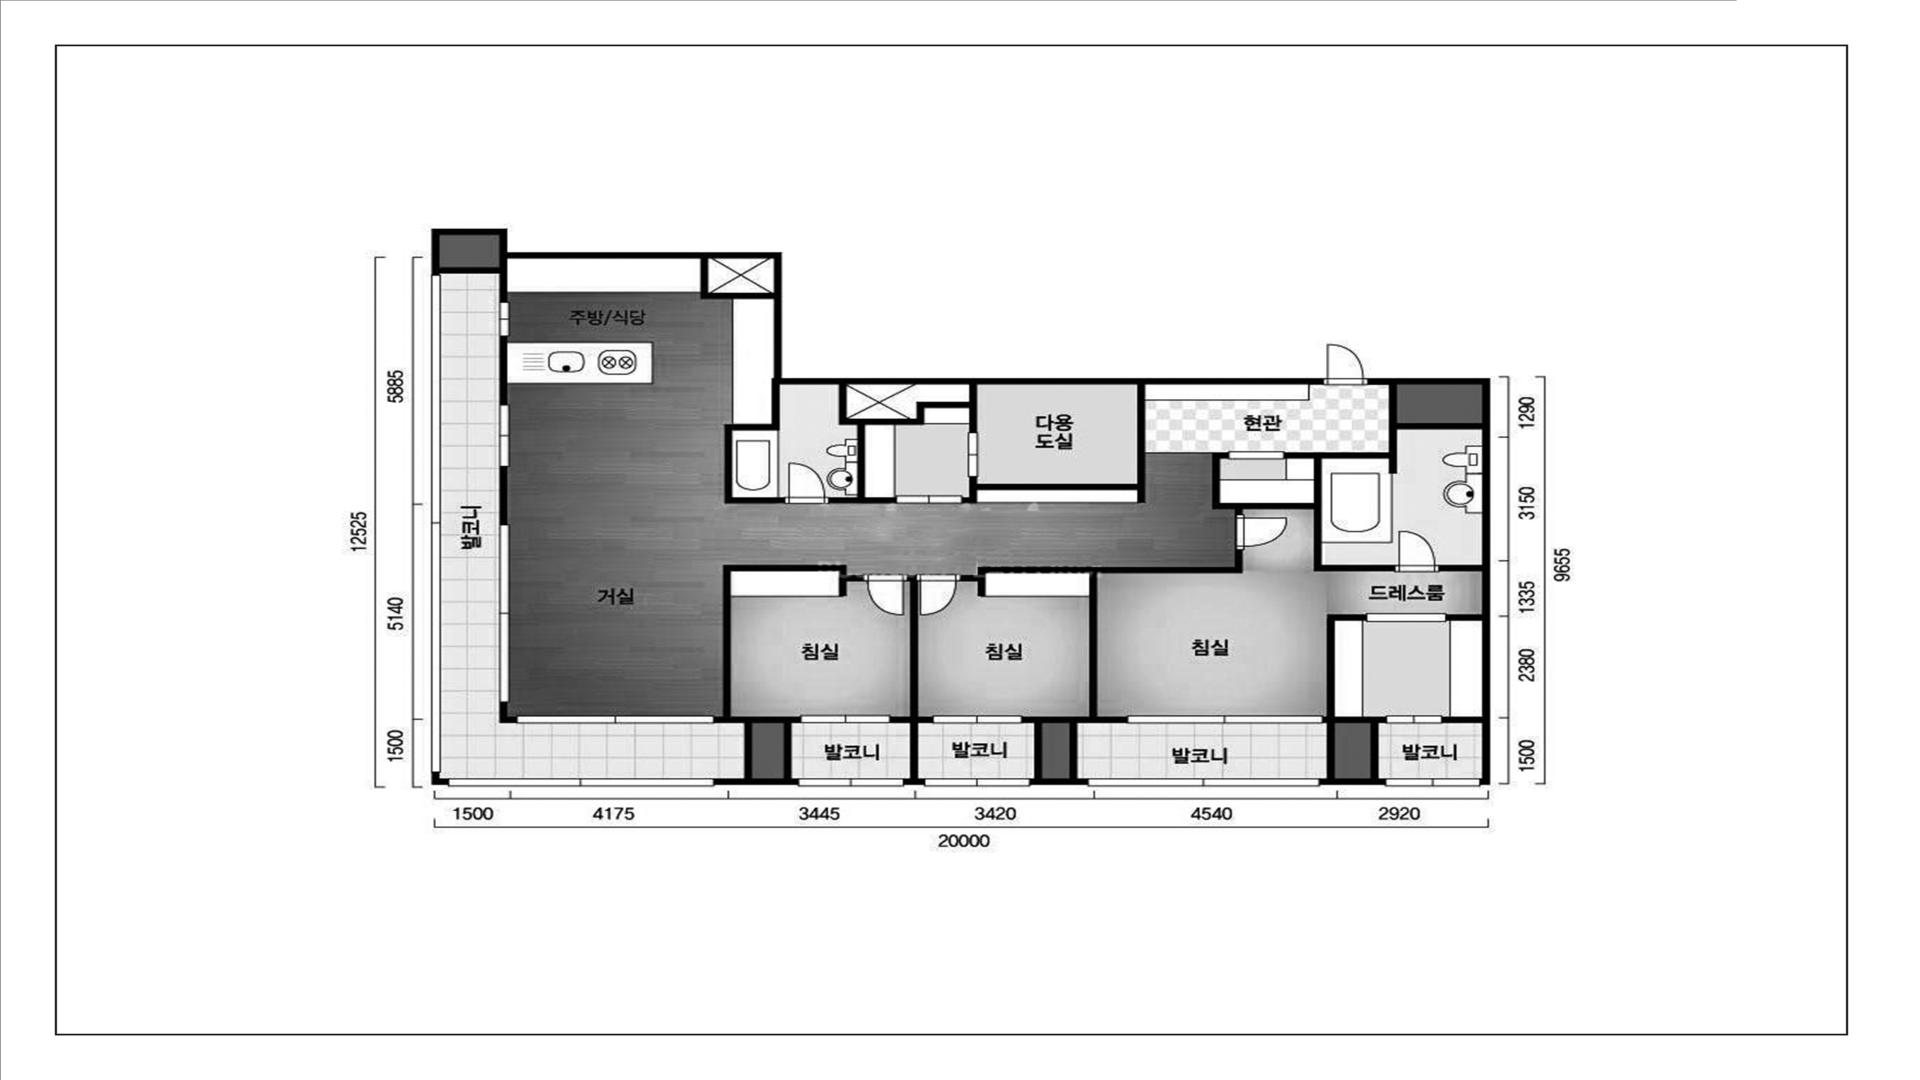door: (862, 574, 907, 616), (785, 462, 829, 504), (1234, 514, 1287, 550), (1324, 344, 1367, 385), (1395, 530, 1439, 571), (916, 575, 959, 616), (1365, 615, 1445, 621), (1228, 452, 1283, 459), (894, 497, 963, 502), (969, 431, 977, 476)
wall: (431, 228, 1324, 385), (959, 550, 1242, 779), (1212, 384, 1482, 571), (1367, 378, 1490, 785), (715, 564, 862, 778), (963, 385, 1146, 504), (828, 385, 977, 502), (1323, 615, 1385, 779), (890, 575, 932, 779), (724, 378, 785, 504), (700, 258, 774, 299), (439, 258, 508, 302), (713, 778, 799, 786), (500, 336, 509, 405), (500, 467, 509, 525), (500, 702, 517, 723), (1319, 779, 1385, 785), (1030, 779, 1088, 785), (1439, 564, 1482, 571), (1443, 716, 1482, 723), (1445, 615, 1482, 621), (431, 773, 448, 786), (903, 779, 926, 786)
window: (431, 274, 440, 773), (448, 778, 713, 786), (500, 525, 509, 702), (516, 716, 715, 723), (1088, 779, 1319, 785), (1126, 717, 1323, 723), (799, 778, 903, 786), (926, 779, 1030, 786), (799, 716, 890, 723), (500, 405, 509, 467), (1385, 779, 1480, 785), (932, 717, 1023, 723), (1385, 716, 1443, 723), (500, 302, 508, 336)
